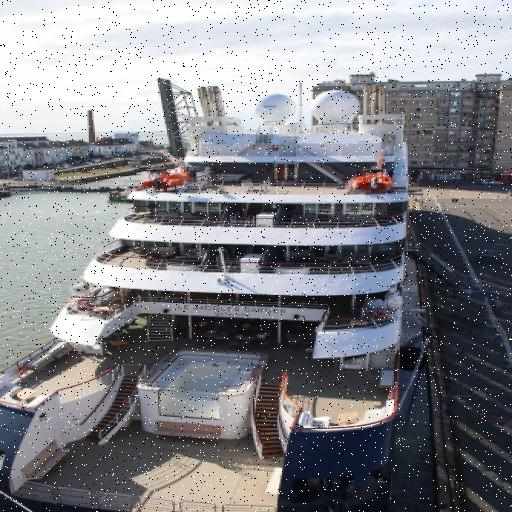cruises: (1, 82, 433, 512)
